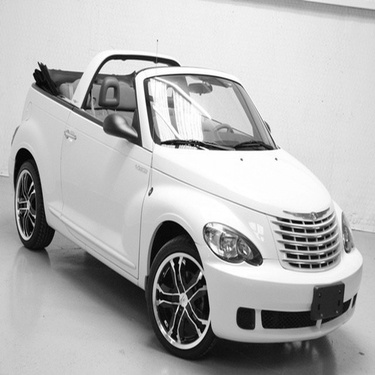car: (6, 41, 366, 362)
